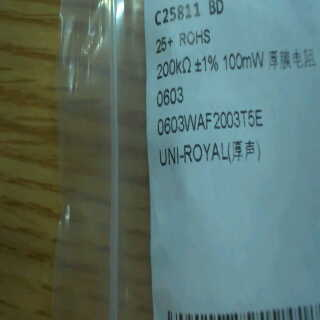200kR: (154, 54, 192, 85)
